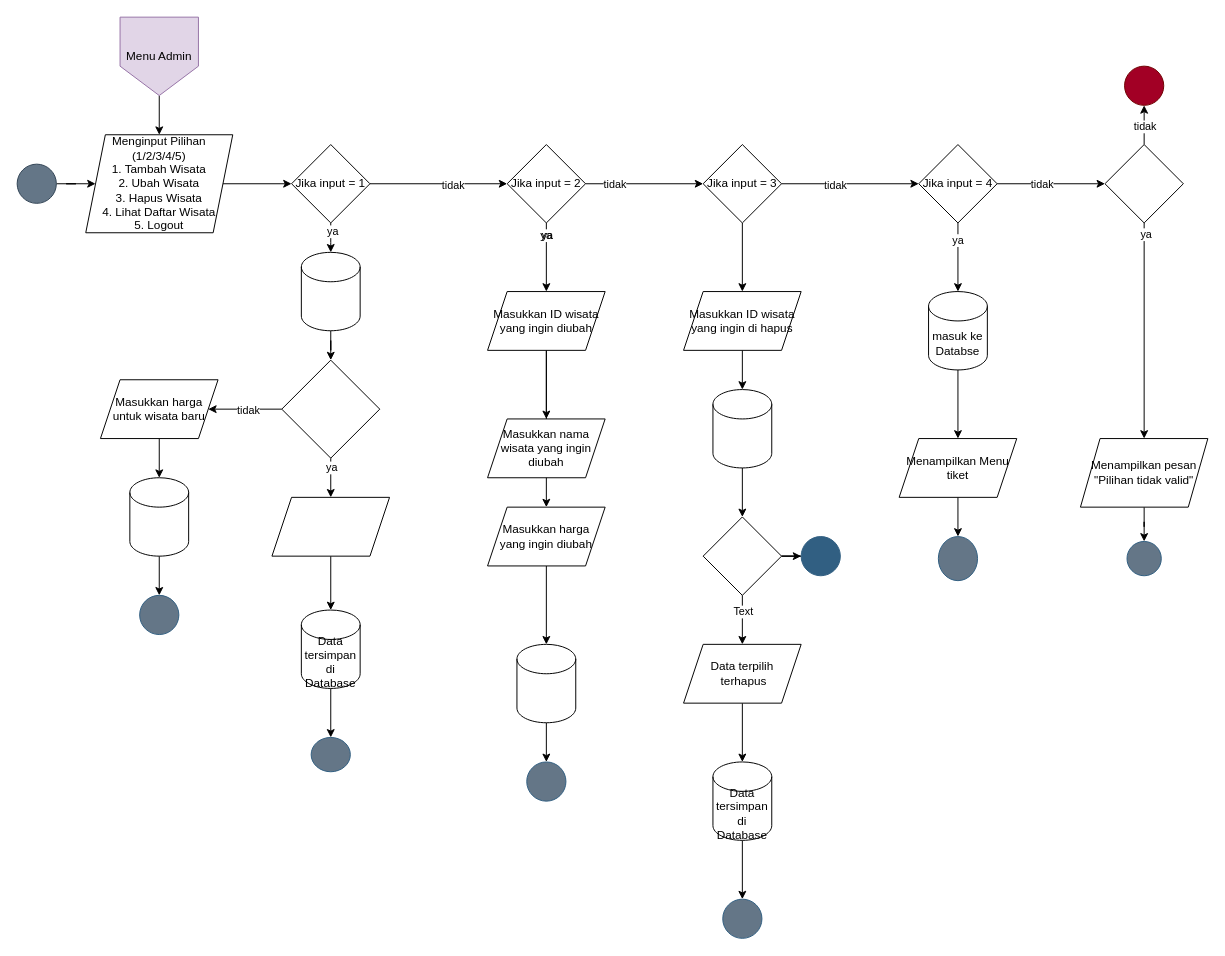
This 1225x956 diagram has some shape labels left out. The centre of each missing label's shape, as x and y in pixels:
"Apakah ID ada di dalam database" goes at point (742, 555).
"Apakah nama wisatanya ada di dalam database" goes at point (330, 408).
"data tersimpan dalam database" goes at point (159, 516).
"database" goes at point (742, 428).
"Jika input = 5" goes at point (1143, 183).
"Masuk ke database" goes at point (330, 291).
"Tambahkan wisata ke dalam program" goes at point (330, 526).
"tersimpan di database" goes at point (546, 683).
